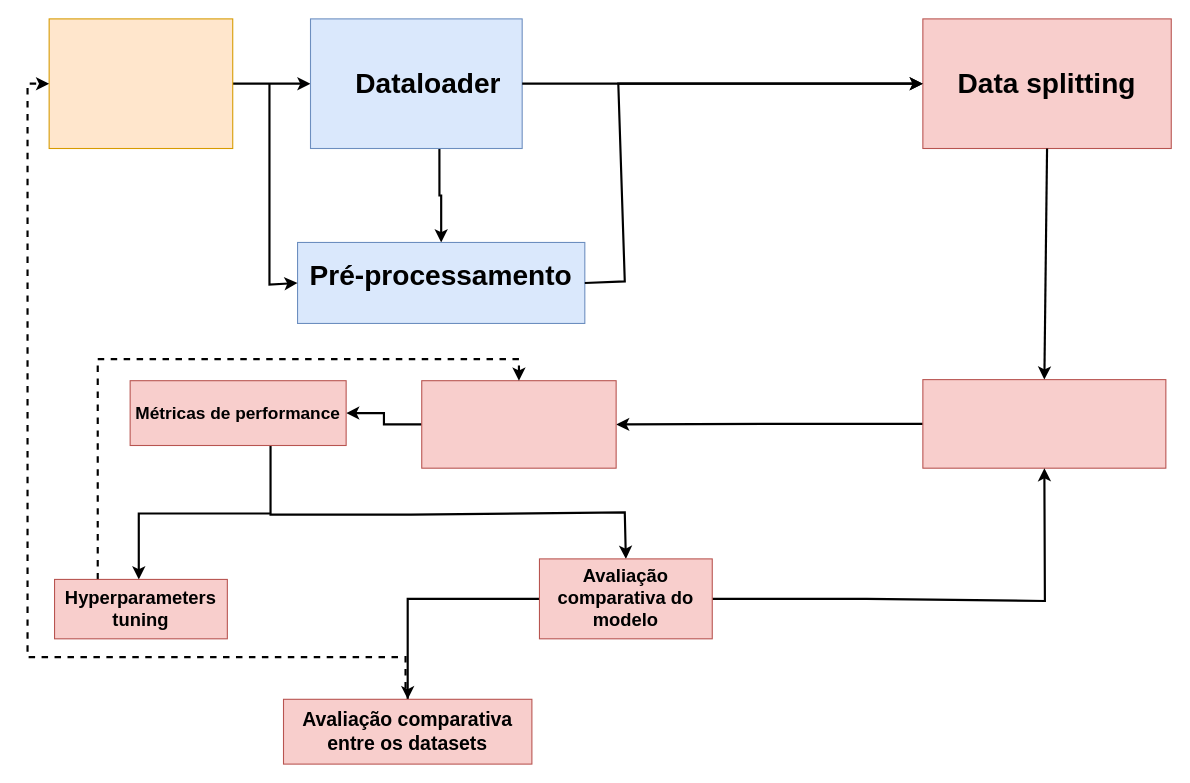
Some shapes in this 1190 by 783 pixel diagram are drawn without their labels. Here are the shapes that lost their labels. From the top down, the centre of each, then its label:
pixel 140 83: Dados I
pixel 518 424: Adaptação e treinamento do modelo
pixel 1044 423: Seleção de modelos de rede neural
